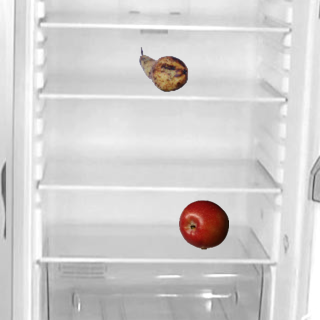Apple Braeburn: (178, 199, 228, 249)
Pear Abate: (138, 44, 188, 94)
